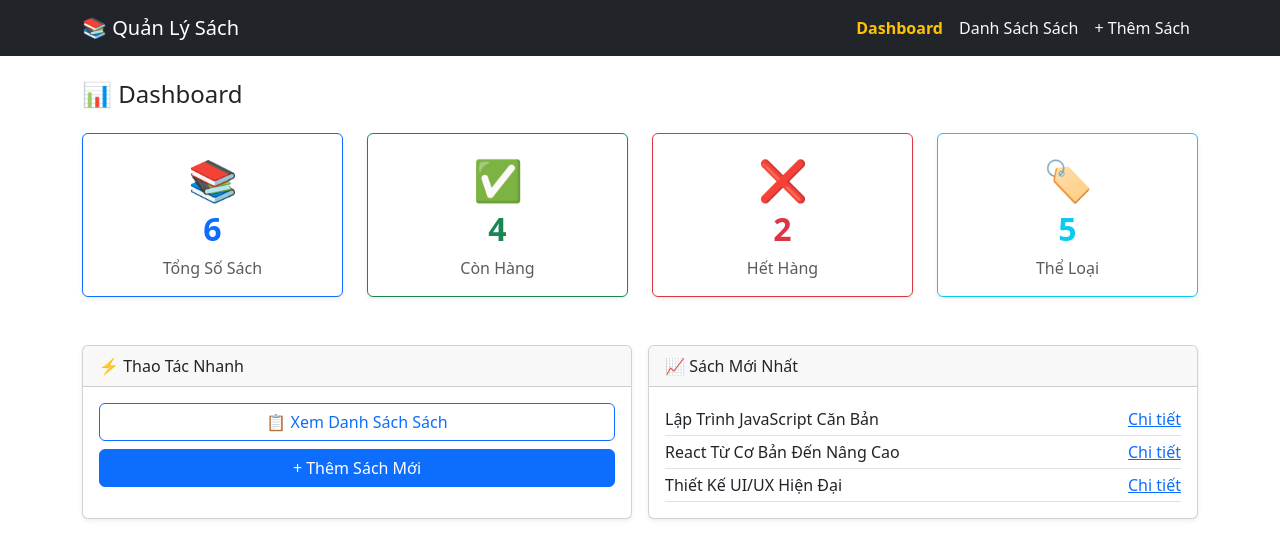
it: Bài 10 — Book Management Full App (10đ) › [1đ] Điều hướng đến trang danh sách sách
This screenshot has width=1280, height=538.
Click the link with test id "nav-books" at (1019, 28), box [959,17,1078,39]
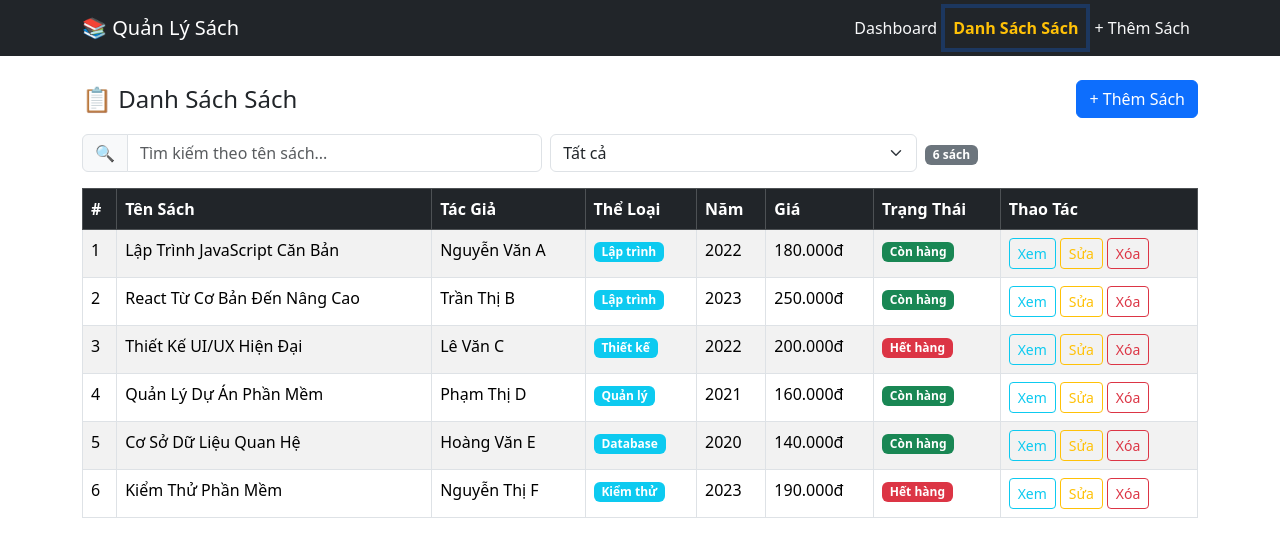
Now the table with test id "book-table" is shown, box [82,188,1198,518]
